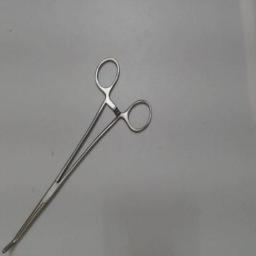Lahey Forceps: (2, 54, 154, 254)
